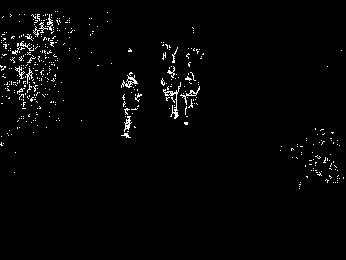person: (118, 72, 141, 140), (160, 64, 182, 120), (181, 71, 200, 127)
